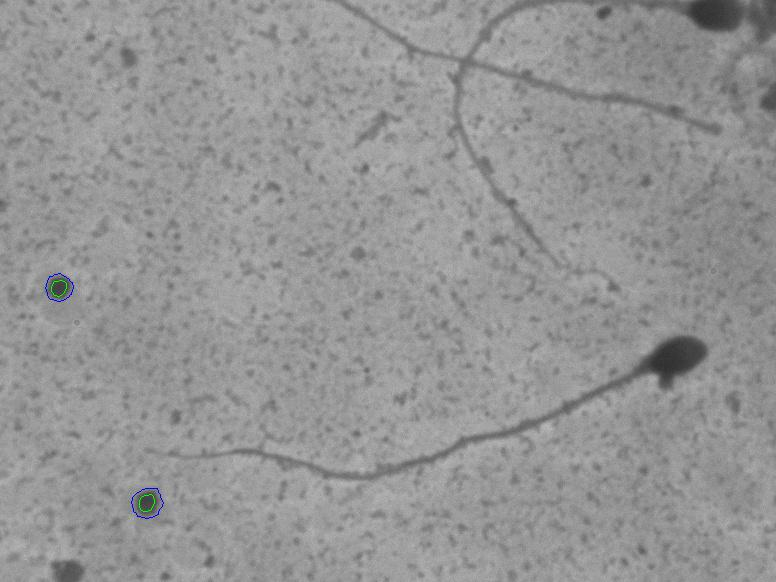Abnormal: (161, 321, 723, 518)
